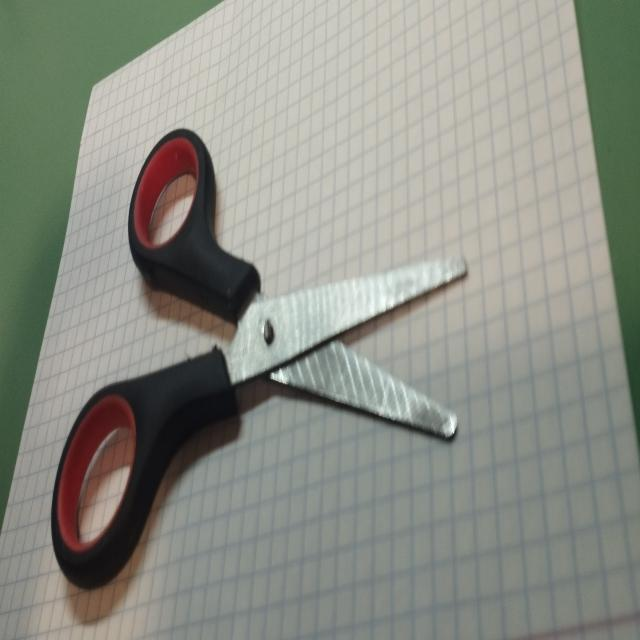tesoura: (47, 118, 472, 598)
